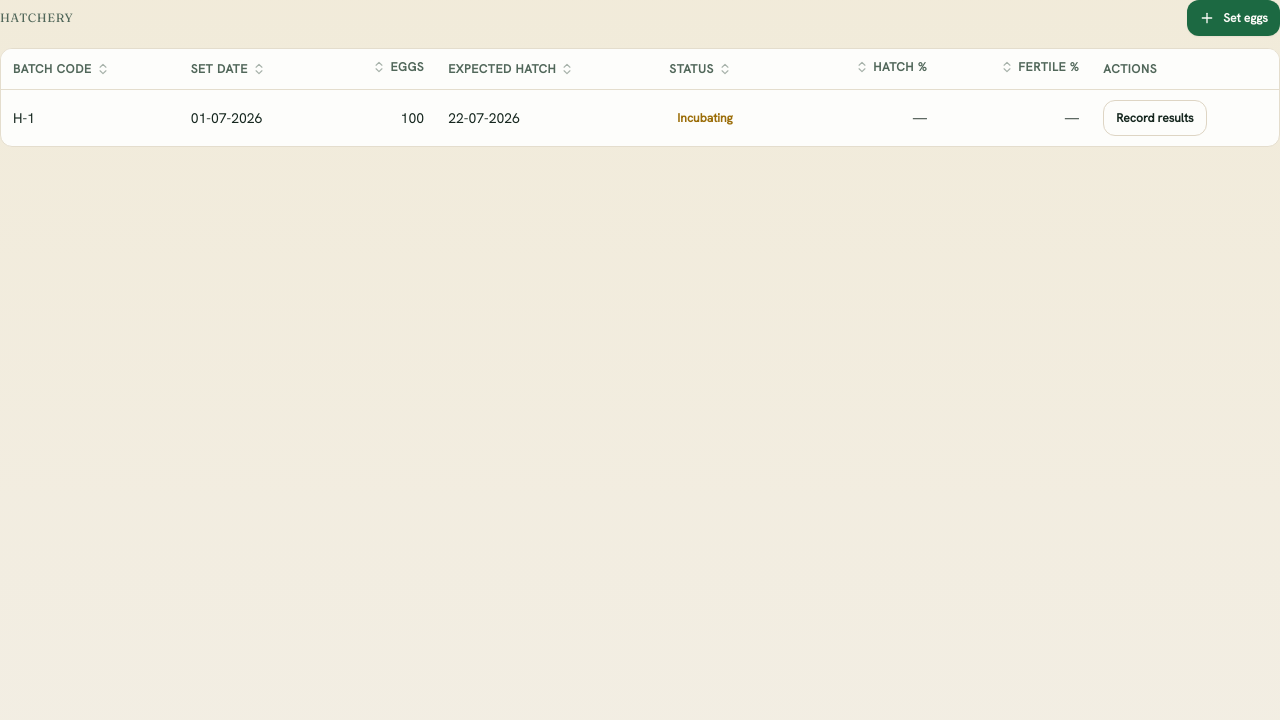
HatcheryPanel (incubation batches) › opens the detail dialog with the incubation timeline and logs on row click
This screenshot has width=1280, height=720.
Click the text "H-1" at (24, 118), box [1,89,179,146]
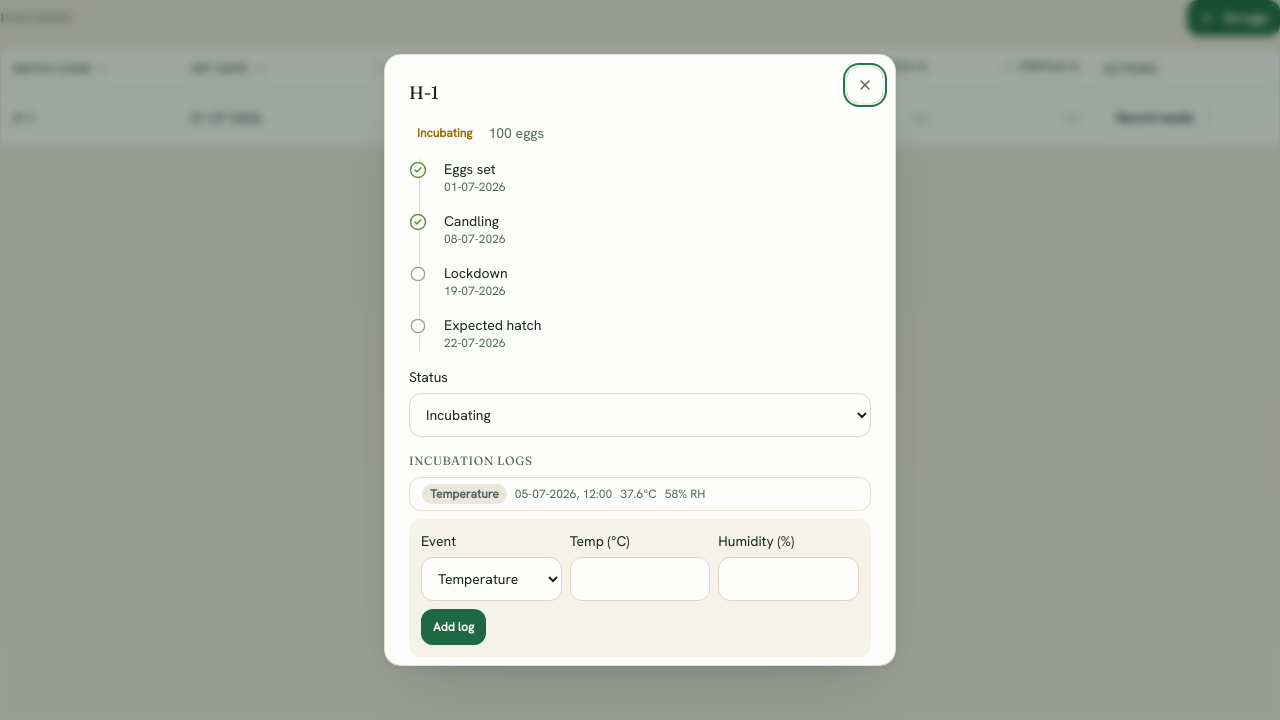
Expected: the text "Eggs set" is shown, [444,160,496,178]
Expected: the text "Candling" is shown, [444,212,499,230]
Expected: the text "Expected hatch" is shown, [444,316,542,334]
